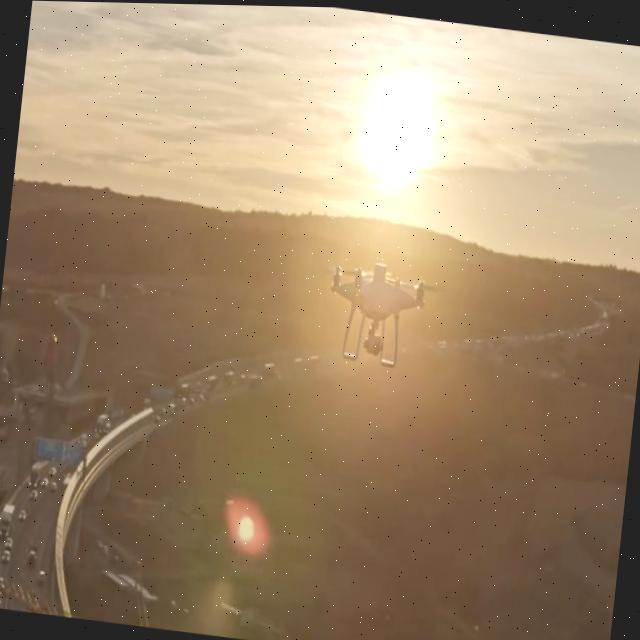drone: (307, 249, 449, 375)
